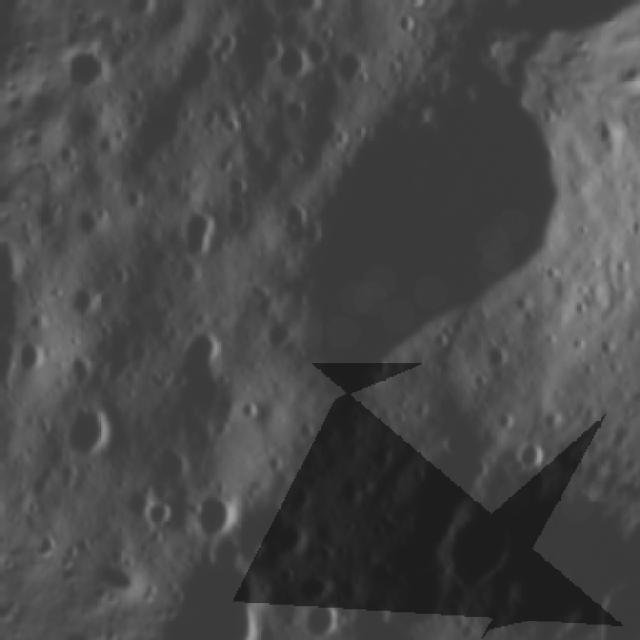crater: (223, 4, 623, 473), (138, 307, 273, 456), (415, 492, 528, 616), (155, 186, 233, 272), (247, 23, 325, 102), (179, 481, 256, 559), (49, 395, 123, 473), (70, 34, 127, 109), (237, 0, 345, 37), (278, 557, 337, 617), (51, 274, 109, 335), (503, 430, 563, 488), (60, 192, 117, 252), (129, 488, 182, 543), (293, 598, 347, 640), (4, 330, 50, 376), (214, 167, 261, 211), (86, 120, 128, 166), (115, 180, 153, 223), (25, 520, 63, 552), (0, 478, 11, 527)
